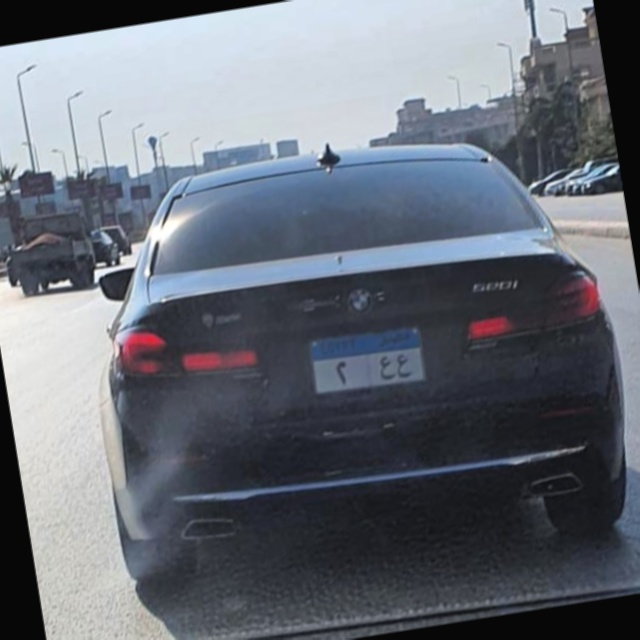License Plate: (305, 321, 428, 399)
